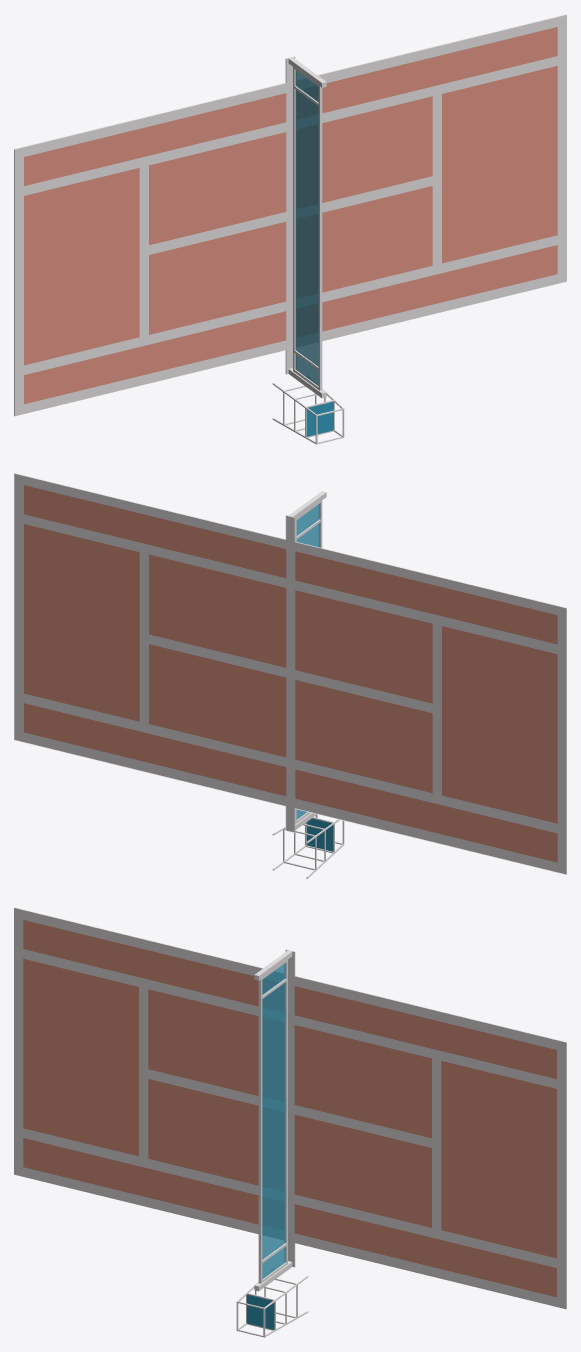
The picture shows the model from 3 angles, top to bottom: view 1: azimuth 30°, elevation 25°; view 2: azimuth 150°, elevation 25°; view 3: azimuth 330°, elevation 25°; orthographic projection.
Parts seen in each view (by area): view 1: 地面, 平面, 网框架, 立方体.001; view 2: 地面, 立方体.001, 网框架, 平面; view 3: 地面, 平面, 网框架, 立方体.001.
Part boxes in pixels (bbox=[...]): 地面: bbox=[14, 14, 566, 416]; 平面: bbox=[295, 70, 318, 385]; 网框架: bbox=[288, 57, 326, 398]; 立方体.001: bbox=[272, 375, 344, 444]; 地面: bbox=[14, 473, 566, 874]; 立方体.001: bbox=[272, 814, 344, 878]; 网框架: bbox=[289, 491, 326, 830]; 平面: bbox=[296, 504, 319, 819]; 地面: bbox=[14, 907, 566, 1309]; 平面: bbox=[262, 963, 285, 1278]; 网框架: bbox=[254, 950, 292, 1291]; 立方体.001: bbox=[236, 1268, 308, 1337].
Size of the model in its own units: 23.77 by 14.72 by 3.
